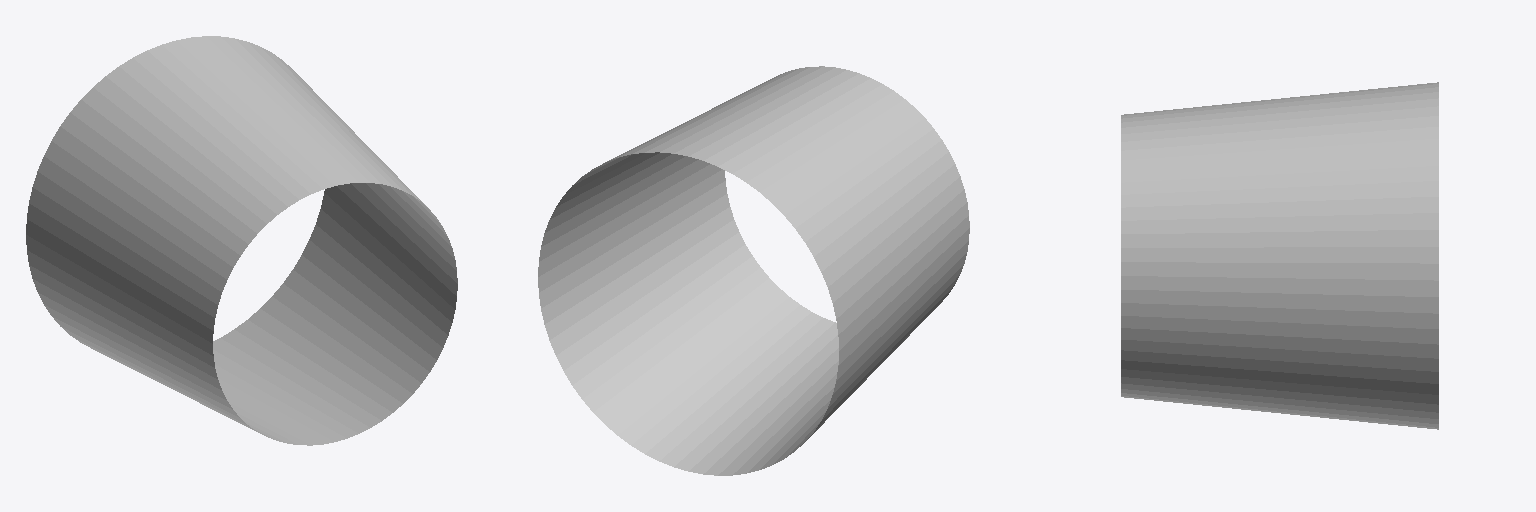
Rendered from steampunk.obj.
3 views of the same model, side by side, from view 1: azimuth 30°, elevation 25°; view 2: azimuth 150°, elevation 25°; view 3: azimuth 270°, elevation 25° (orthographic).
Parts seen in each view (by area): view 1: Cylinder.001; view 2: Cylinder.001; view 3: Cylinder.001.
Part boxes in pixels (x1,y1,x2,y2): Cylinder.001: (26, 36, 457, 445); Cylinder.001: (538, 66, 969, 475); Cylinder.001: (1121, 82, 1438, 429).
Bounding box in the file's own units: 1.98 × 1.98 × 1.81.